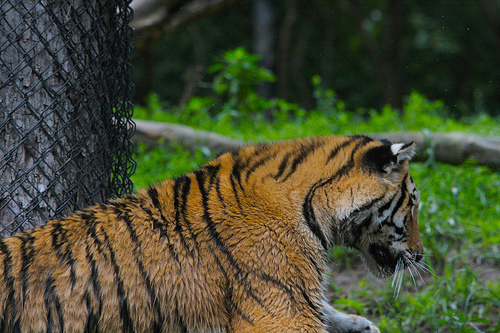Tigre: (43, 132, 404, 333)
